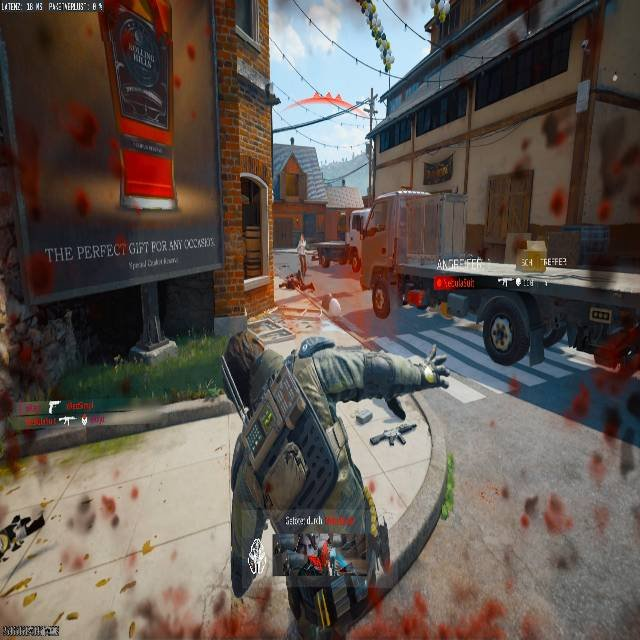player: (222, 310, 454, 640)
